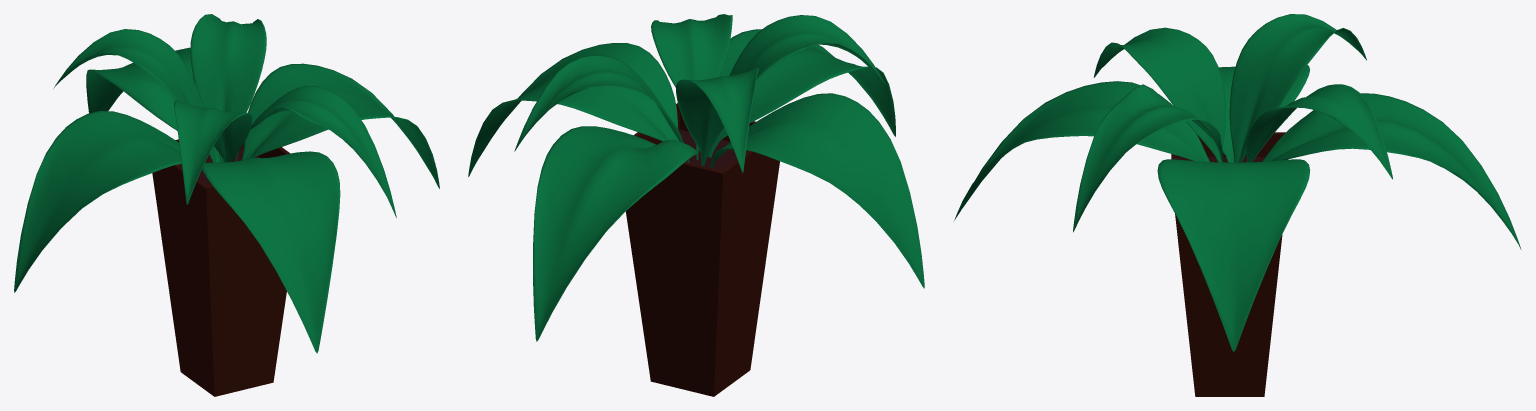
The model's file is highpotplant2.fbx.
The picture shows the model from 3 angles, left to right: view 1: azimuth 30°, elevation 25°; view 2: azimuth 150°, elevation 25°; view 3: azimuth 270°, elevation 25°; orthographic projection. The views are drawn at different scales.
Parts seen in each view (by area): view 1: big leaf 1; view 2: big leaf 1; view 3: big leaf 1.
Part boxes in pixels (left/top/right/bottom): big leaf 1: left=14, top=14, right=439, bottom=396; big leaf 1: left=468, top=14, right=924, bottom=396; big leaf 1: left=954, top=14, right=1521, bottom=396.
Bounding box in the file's own units: 323 × 234 × 368.
